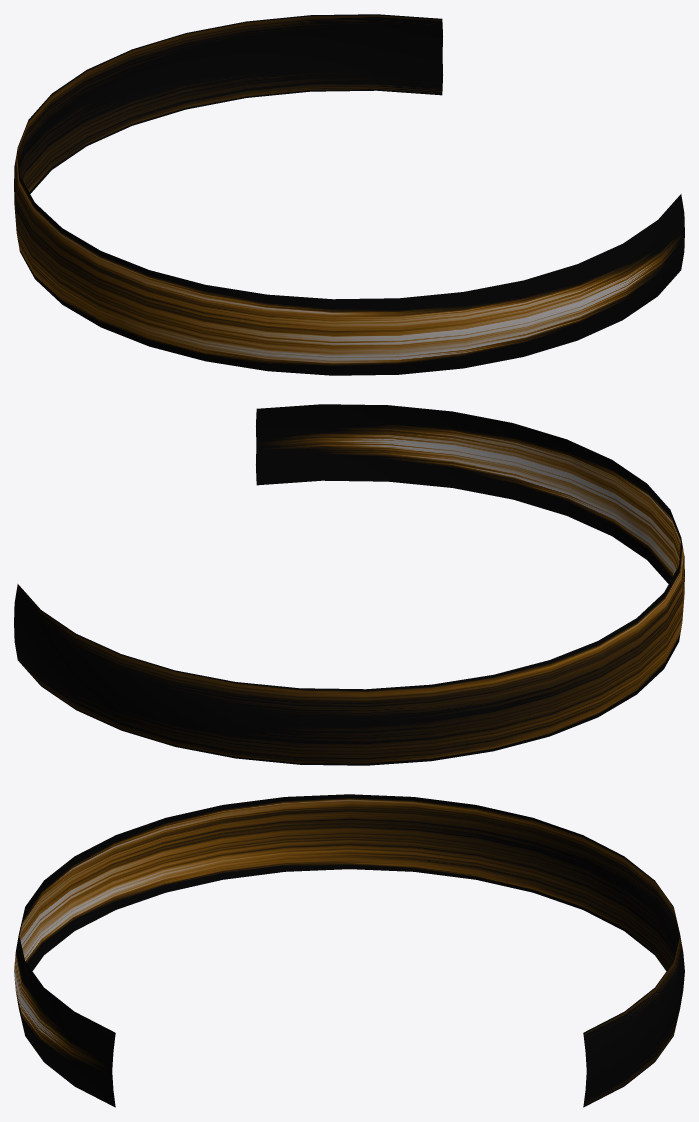
The model's file is yuanhuan_03.FBX.
3 views of the same model, one above another, from view 1: azimuth 30°, elevation 25°; view 2: azimuth 150°, elevation 25°; view 3: azimuth 270°, elevation 25° (orthographic). The views are drawn at different scales.
Visible parts, largest first — view 1: Cylinder001; view 2: Cylinder001; view 3: Cylinder001.
Part boxes in pixels (bbox=[...]): Cylinder001: bbox=[14, 14, 684, 375]; Cylinder001: bbox=[14, 404, 684, 765]; Cylinder001: bbox=[14, 794, 684, 1107].
Size of the model in its own units: 172 by 203 by 25.
Materials: 1 (1 with a texture image).
